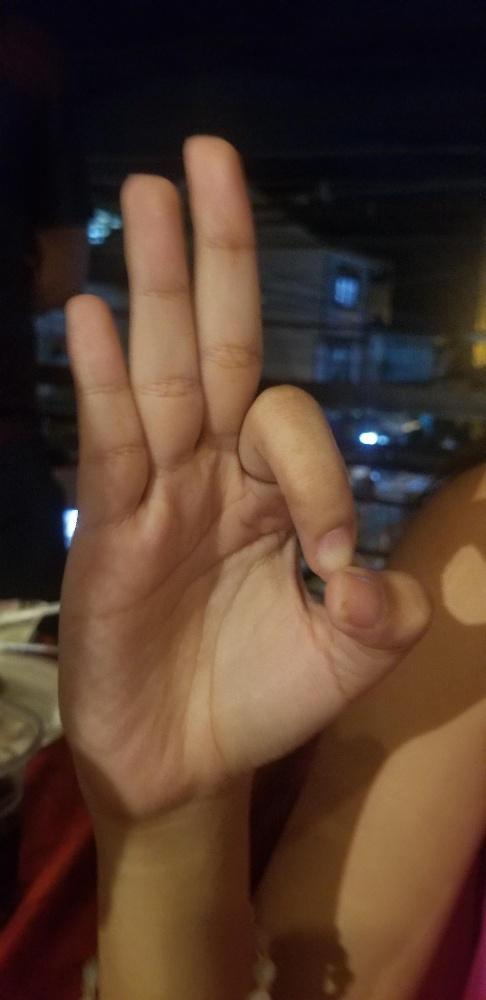f: (56, 131, 430, 804)
